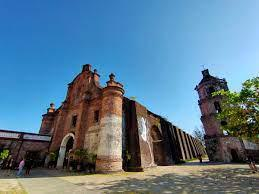Sta. Maria Church: (39, 60, 126, 173)
Unfinished Paint: (84, 121, 123, 158)
